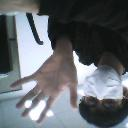hand: (10, 52, 78, 124)
